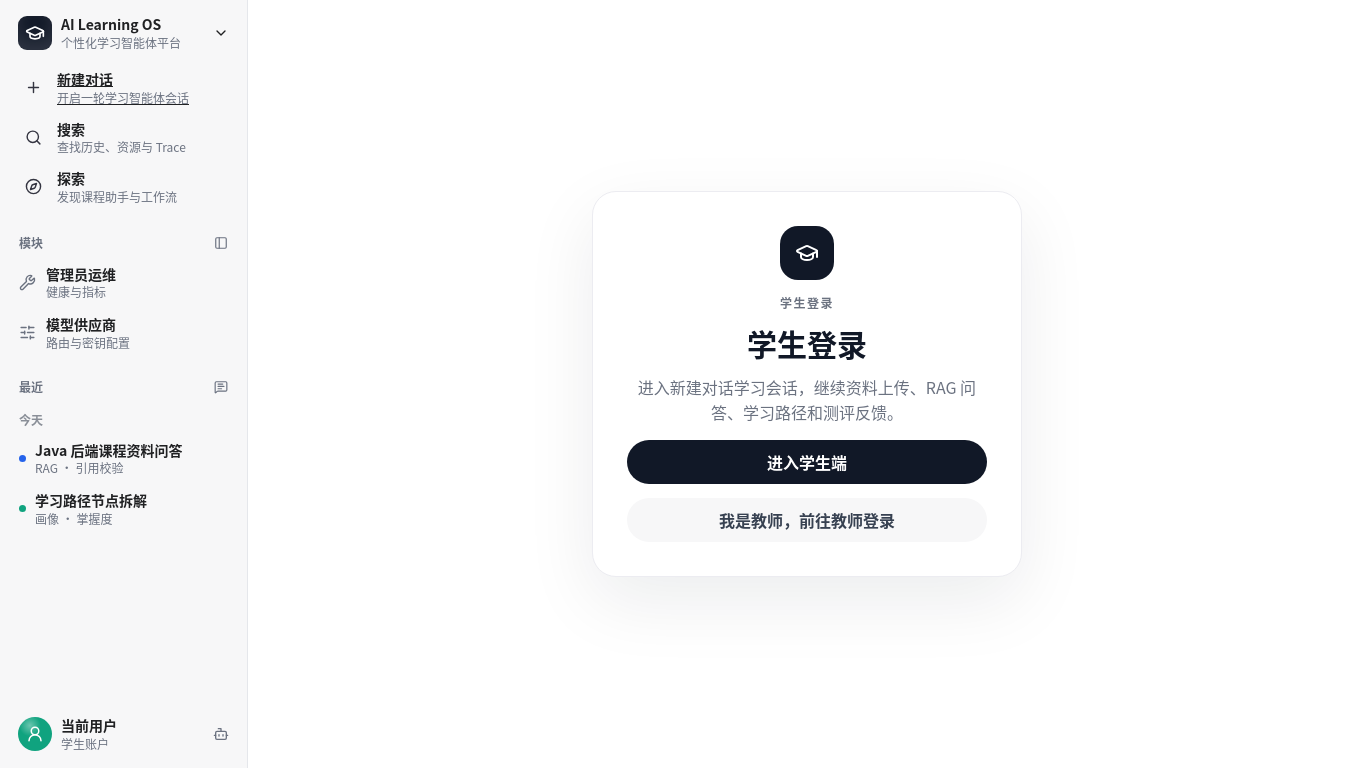
Scenario: AI Learning OS workbench › lets students log in without showing the teacher review module
Expected: the element with test id "student-login-page" shows "学生登录", top-left (780, 294), bottom-right (834, 311)
Click the button with test id "student-login-submit" at (807, 462), box top-left (627, 440), bottom-right (987, 484)
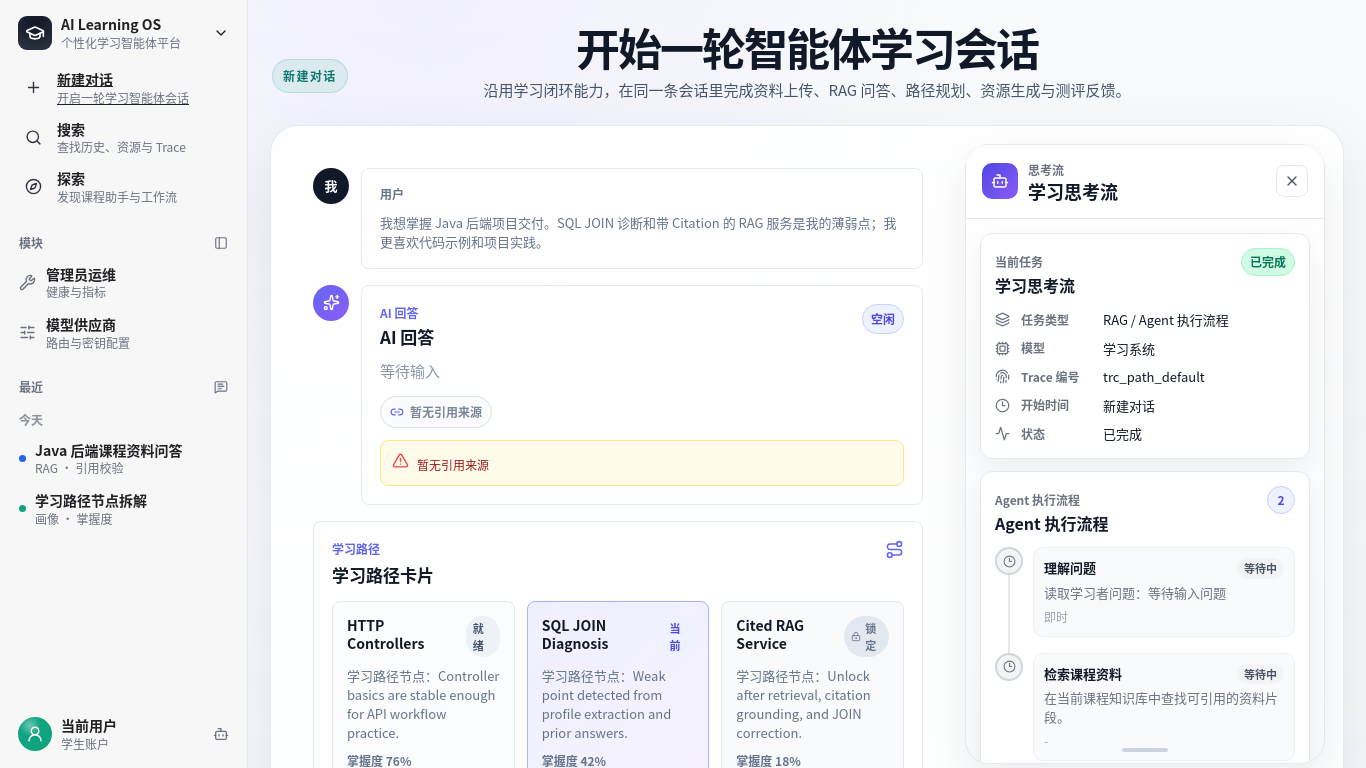
Expected: the button with test id "account-menu-trigger" shows "学生账户", top-left (10, 710), bottom-right (237, 758)
Expected: the text "开始一轮智能体学习会话" is shown, top-left (576, 26), bottom-right (1038, 69)
